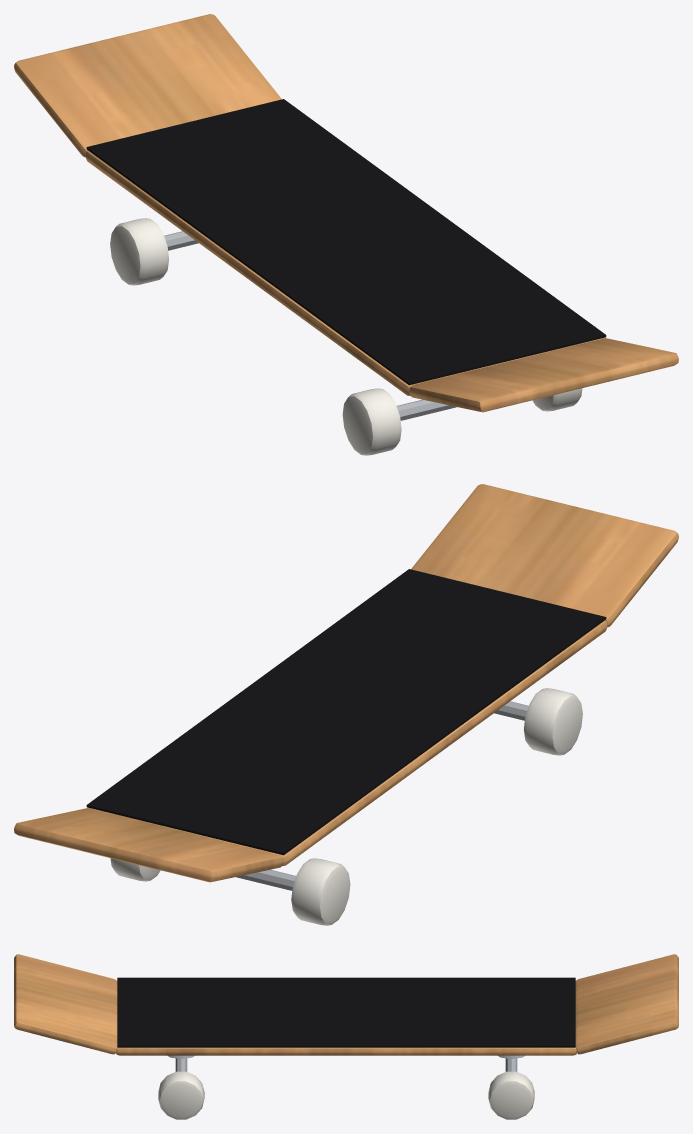
The model's file is skate.glb.
3 renders of one model, top to bottom at view 1: azimuth 30°, elevation 25°; view 2: azimuth 150°, elevation 25°; view 3: azimuth 270°, elevation 25°, orthographic. The views are drawn at different scales.
Parts seen in each view (by area): view 1: lixa, ponta.001, ponta, deck, roda, roda.002, eixo, roda.001; view 2: lixa, ponta, ponta.001, deck, roda.002, roda, eixo.001, roda.003; view 3: lixa, ponta, ponta.001, deck, roda.001, roda.003.
Part boxes in pixels (x1=…): lixa: x1=86, y1=99, x2=606, y2=385; ponta.001: x1=14, y1=14, x2=281, y2=157; ponta: x1=409, y1=338, x2=678, y2=412; deck: x1=85, y1=150, x2=605, y2=395; roda: x1=342, y1=388, x2=401, y2=455; roda.002: x1=110, y1=218, x2=168, y2=285; eixo: x1=396, y1=399, x2=456, y2=420; roda.001: x1=532, y1=388, x2=582, y2=411; lixa: x1=86, y1=569, x2=606, y2=855; ponta: x1=411, y1=484, x2=678, y2=627; ponta.001: x1=14, y1=808, x2=283, y2=882; deck: x1=87, y1=620, x2=607, y2=865; roda.002: x1=291, y1=858, x2=350, y2=925; roda: x1=524, y1=688, x2=582, y2=755; eixo.001: x1=236, y1=869, x2=296, y2=890; roda.003: x1=110, y1=858, x2=160, y2=881; lixa: x1=117, y1=977, x2=575, y2=1047; ponta: x1=14, y1=954, x2=117, y2=1054; ponta.001: x1=575, y1=954, x2=678, y2=1054; deck: x1=116, y1=1047, x2=576, y2=1055; roda.001: x1=158, y1=1071, x2=204, y2=1119; roda.003: x1=488, y1=1071, x2=534, y2=1119.
Bounding box in the file's own units: 0.212 × 0.1296 × 0.8055.
4 materials, 1 textured.
